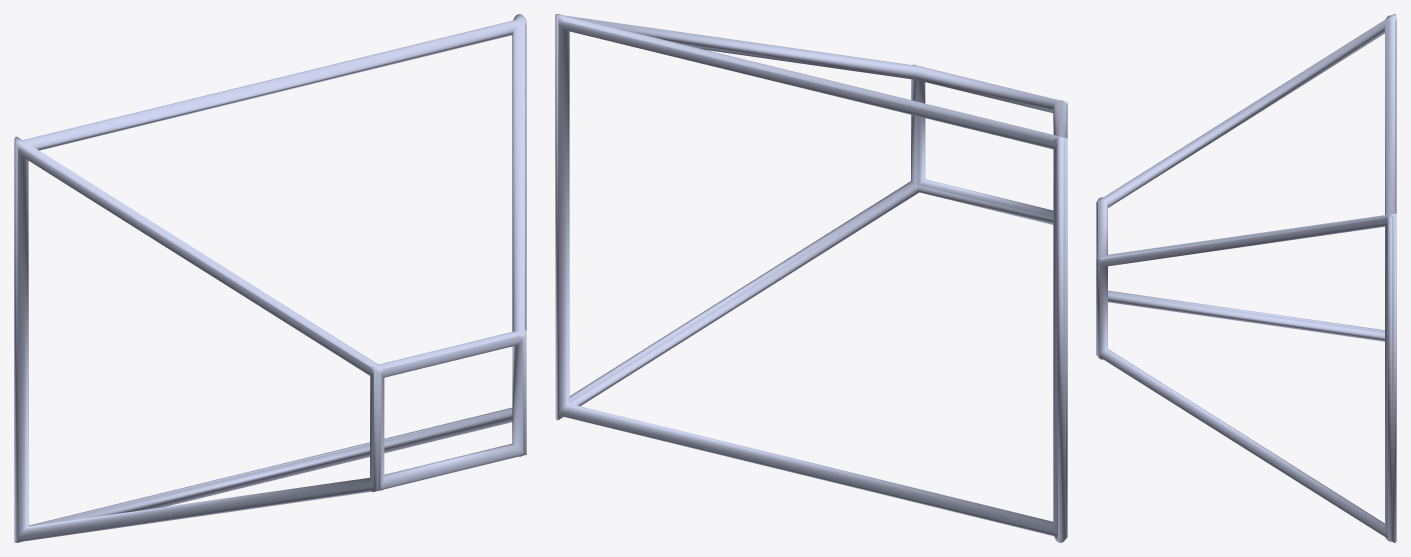
Rendered from frustrum_frame.obj.
3 renders of one model, left to right at view 1: azimuth 30°, elevation 25°; view 2: azimuth 150°, elevation 25°; view 3: azimuth 270°, elevation 25°, orthographic. The views are drawn at different scales.
Bounding box in the file's own units: 0.4141 × 0.3144 × 0.26.
